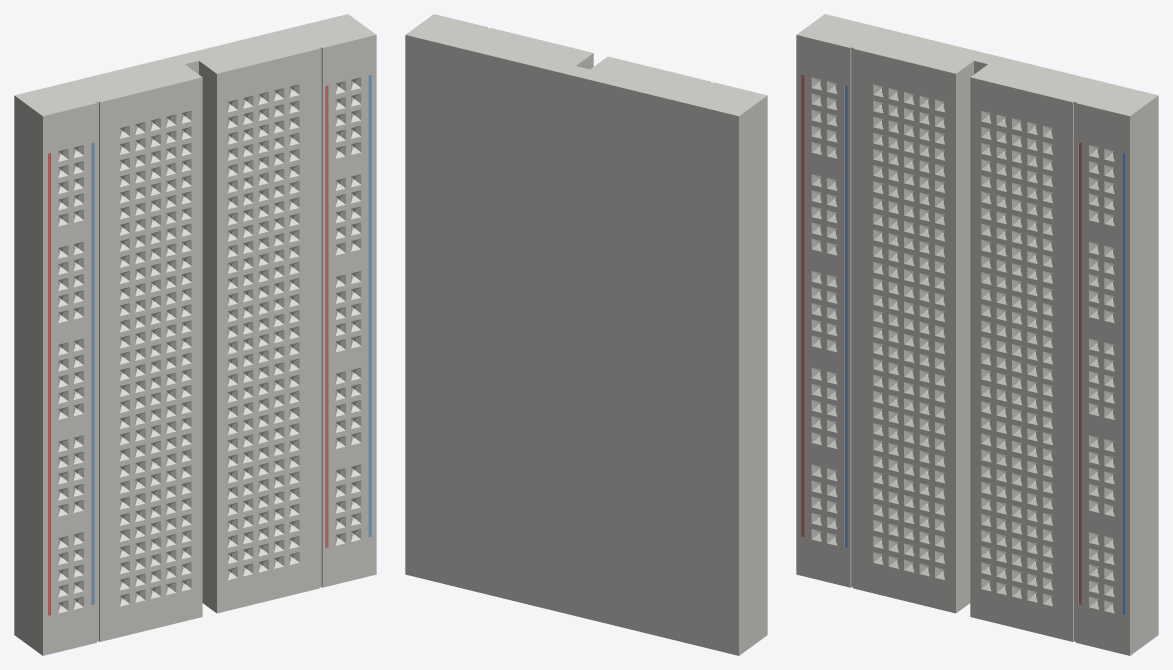
File: breadboard_400.glb
3 views of the same model, side by side, from view 1: azimuth 30°, elevation 25°; view 2: azimuth 150°, elevation 25°; view 3: azimuth 330°, elevation 25° (orthographic).
Visible parts, largest first — view 1: body, rail_minus, rail_plus; view 2: body; view 3: body, rail_plus, rail_minus.
Boxes of the visible parts, left/top/right/bottom form: body: left=14, top=14, right=376, bottom=655; rail_minus: left=91, top=75, right=371, bottom=605; rail_plus: left=48, top=85, right=327, bottom=615; body: left=405, top=14, right=767, bottom=655; body: left=796, top=14, right=1158, bottom=655; rail_plus: left=801, top=75, right=1081, bottom=605; rail_minus: left=845, top=85, right=1124, bottom=615.
Size of the model in its own units: 0.055 by 0.085 by 0.00815.
